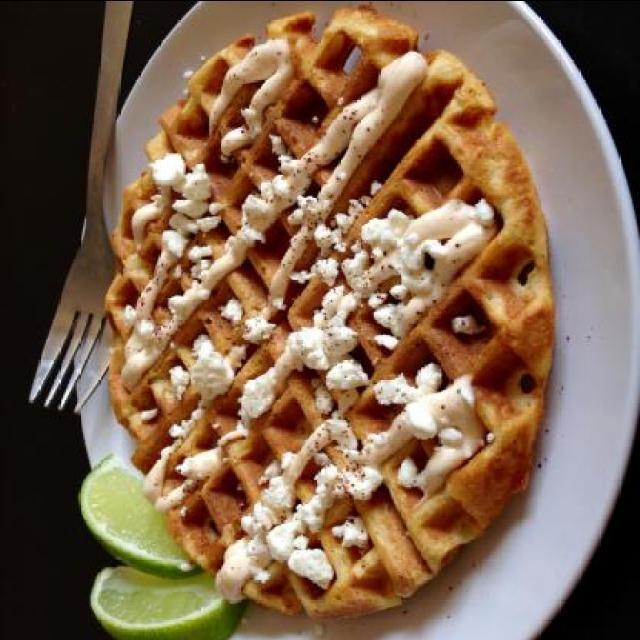Waffle: (106, 9, 554, 617)
